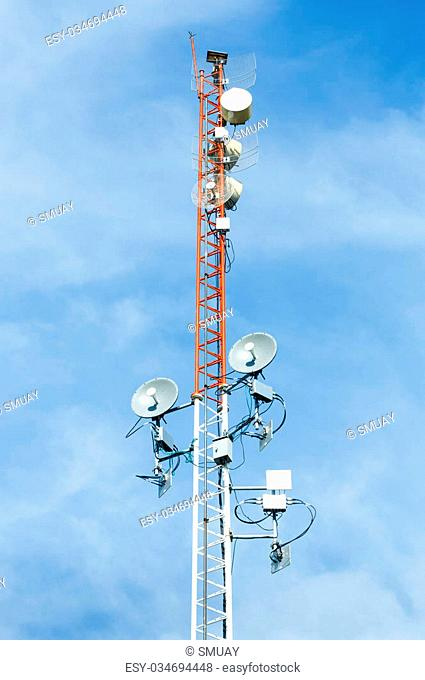b: (219, 89, 251, 120)
